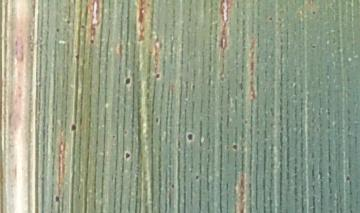tarspot: (231, 144, 239, 151), (124, 152, 130, 160), (187, 133, 193, 141), (70, 125, 76, 132), (55, 196, 60, 203), (75, 54, 80, 60), (346, 177, 351, 182), (155, 73, 159, 79), (155, 117, 159, 123), (90, 39, 94, 44), (125, 79, 129, 84), (66, 20, 70, 24), (56, 28, 59, 32), (195, 176, 198, 180), (171, 184, 174, 187)
